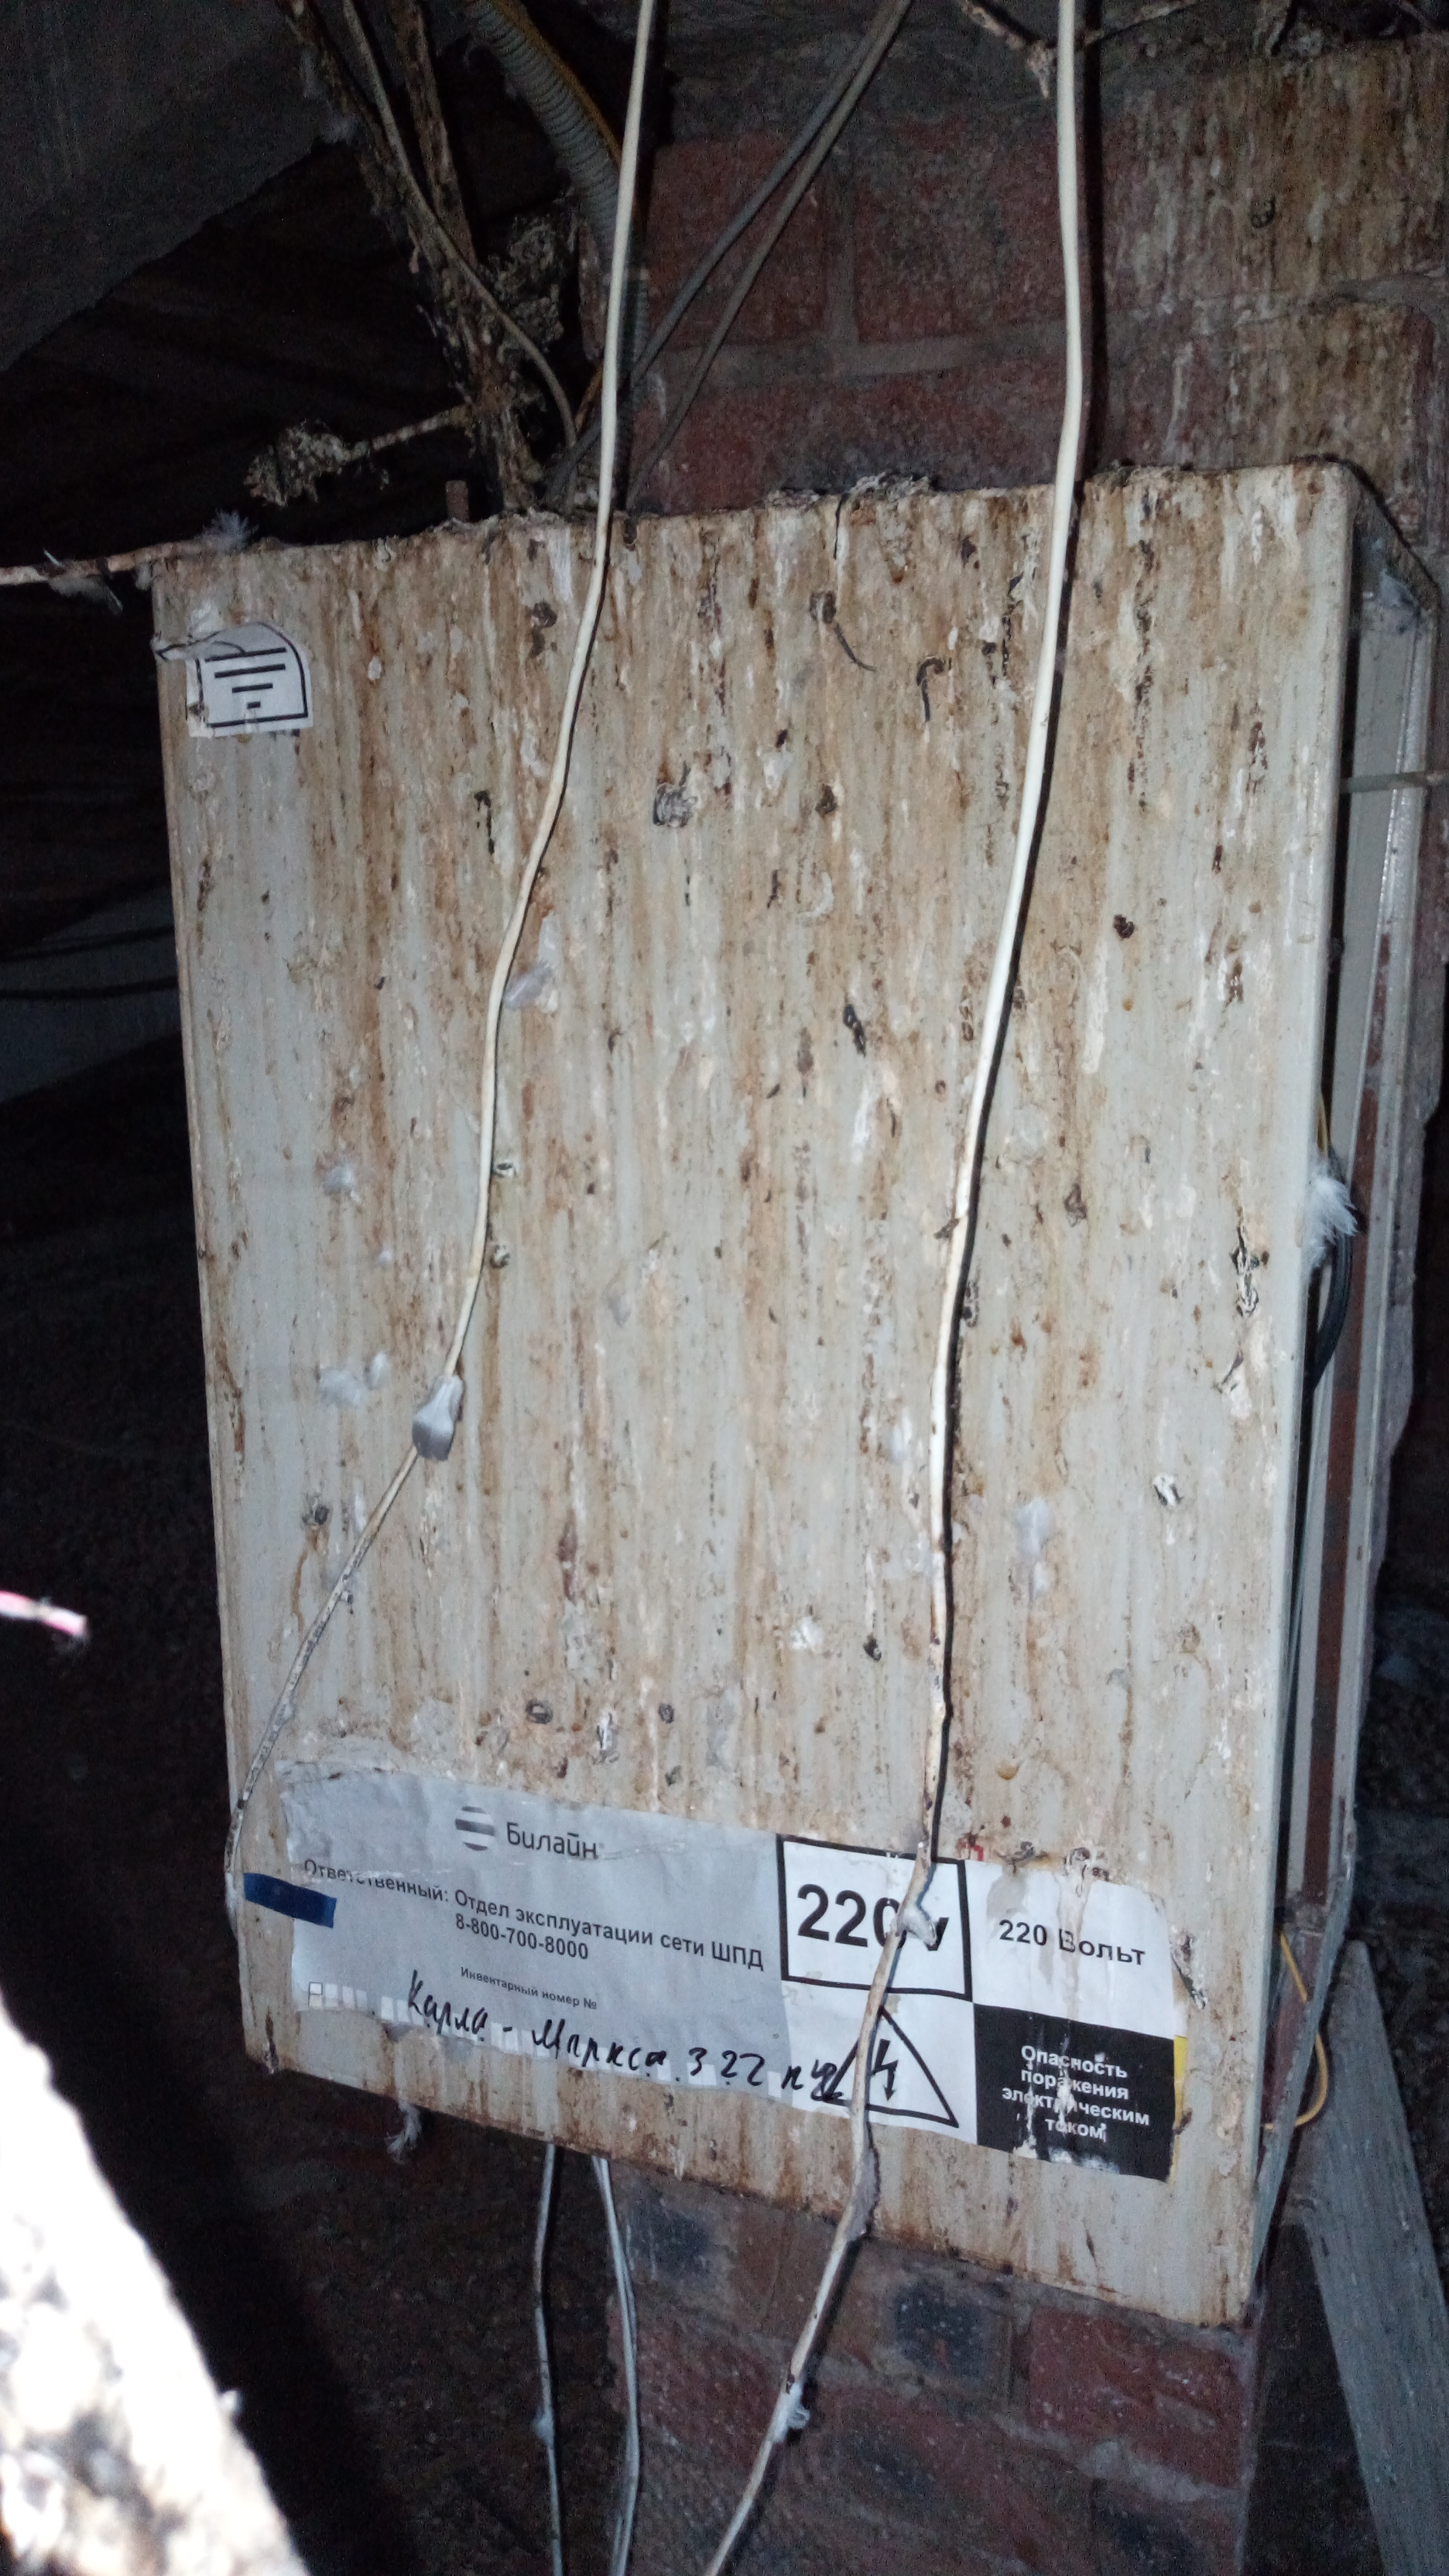sv-5: (129, 441, 1440, 2357)
